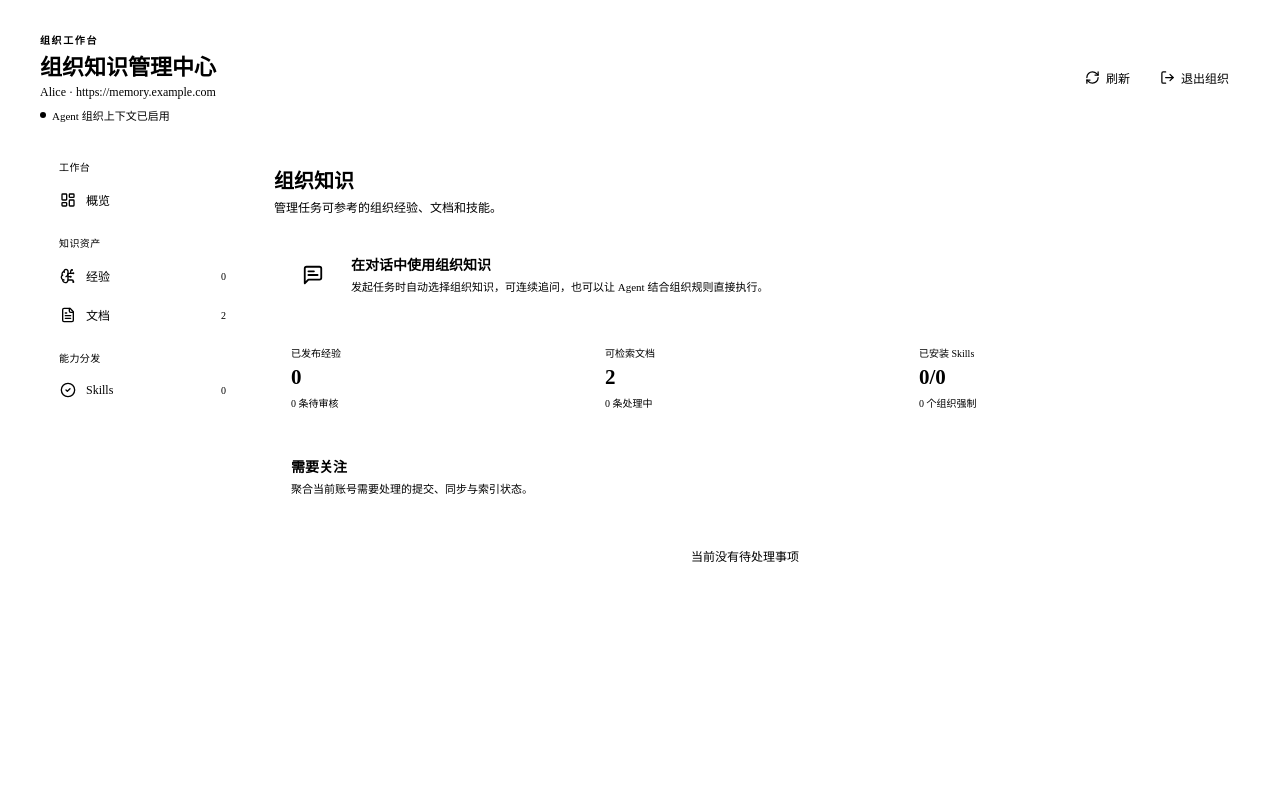
Test: OrganizationMemoryPanel › 更新文档原件选择失败时显示恢复提示
Expected: the text "Alice · https://memory.example.com" is shown, [40,85,216,100]
Click the button "文档 2".
click(143, 315)  # box [50,297,236,333]
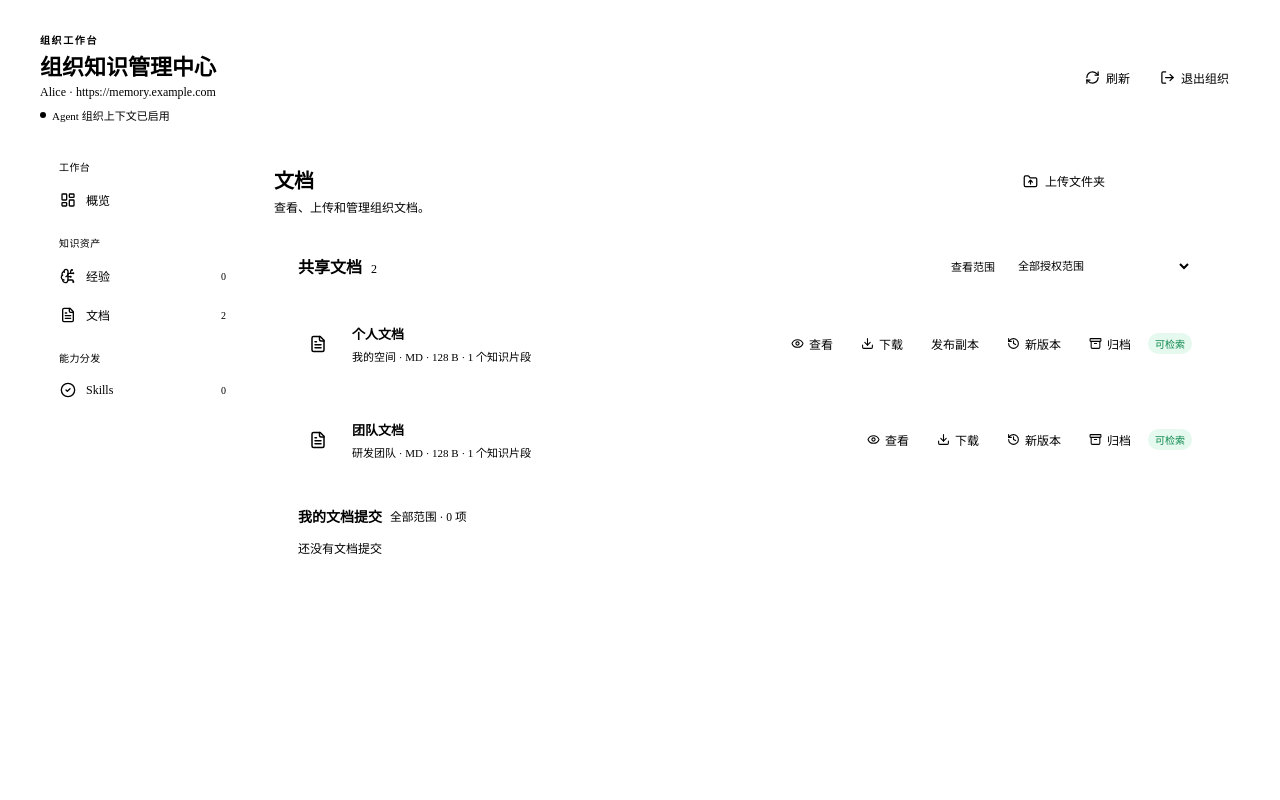
Click the button "新版本" in the row of "个人文档".
click(1034, 344)  # box [996,328,1072,360]
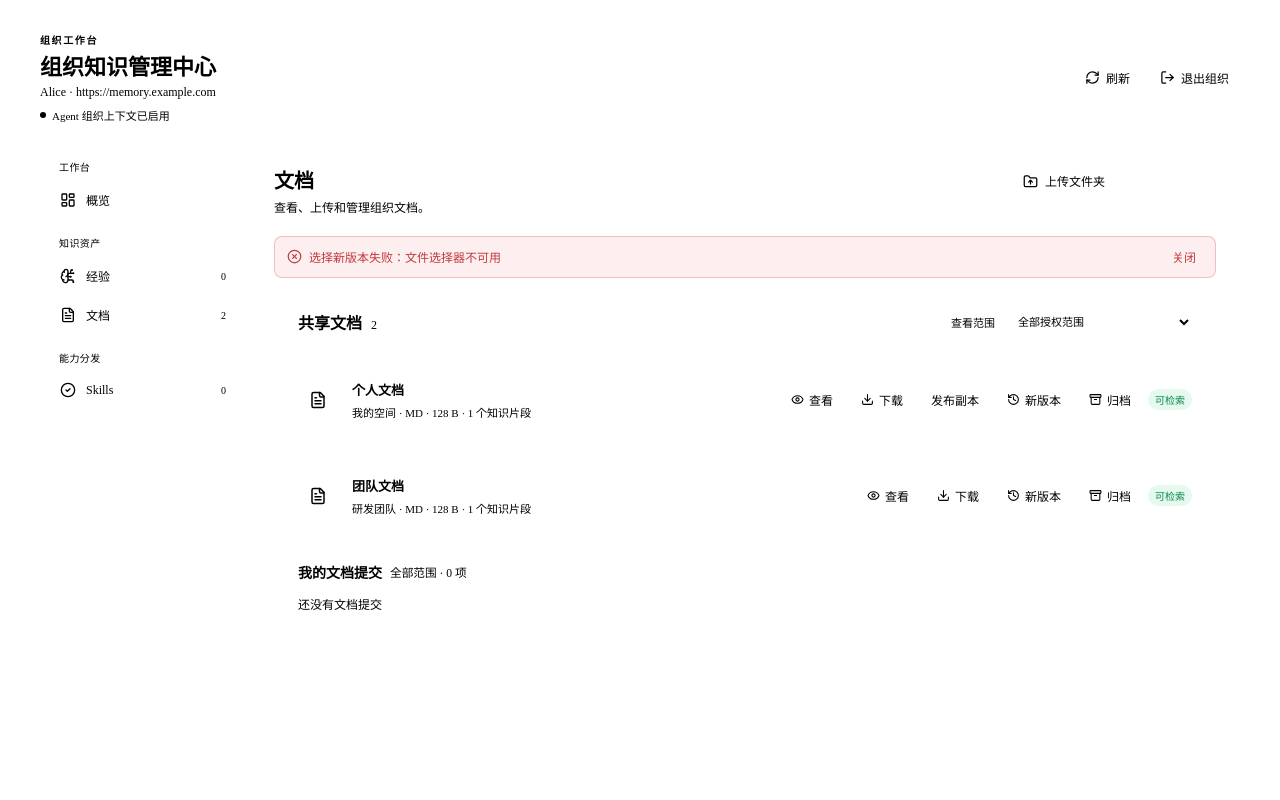
Expected: the text "选择新版本失败：文件选择器不可用" is shown, [309,251,501,265]
